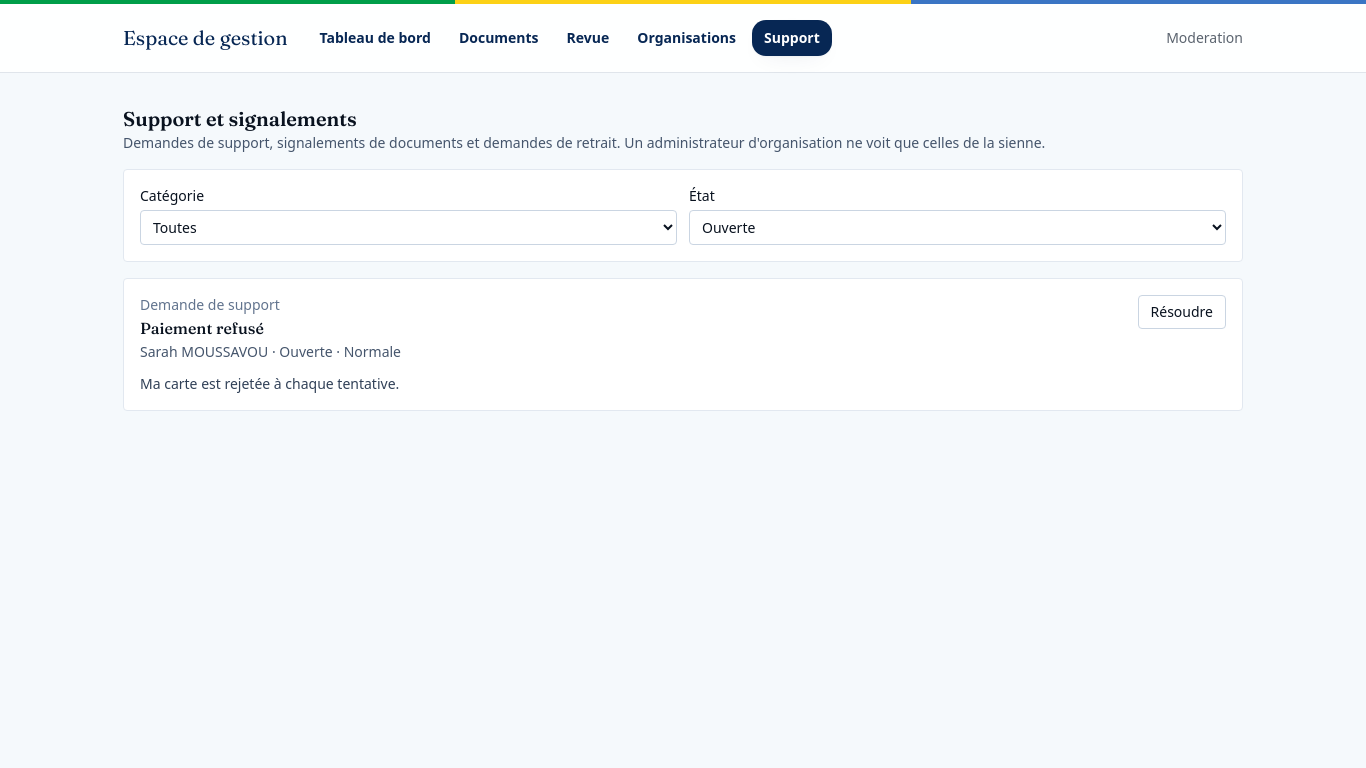
Test: file de support › refuse une résolution sans résumé avant d'appeler le serveur
Click the button "Résoudre". click: (1182, 312)
box: [1138,295,1226,329]
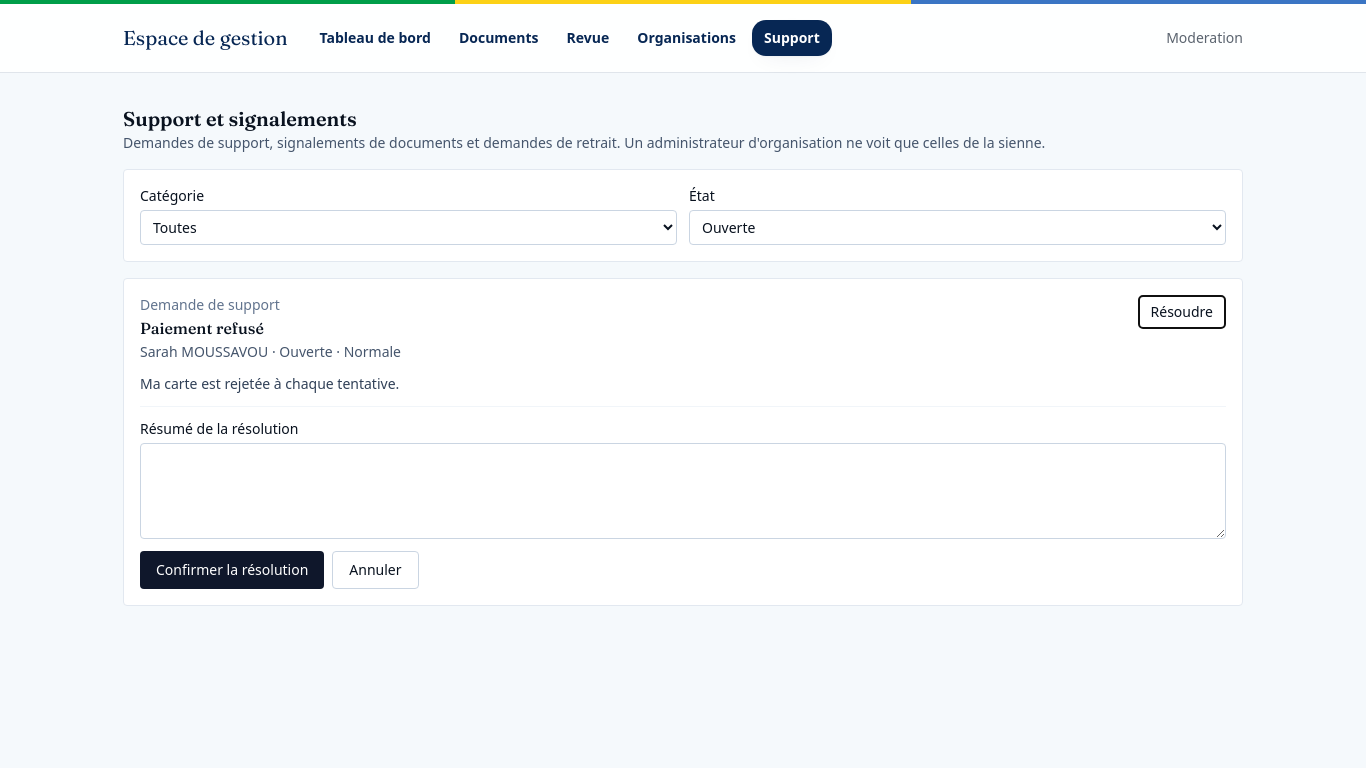
Click the button "Confirmer la résolution". click: (232, 570)
box: [140,551,324,589]
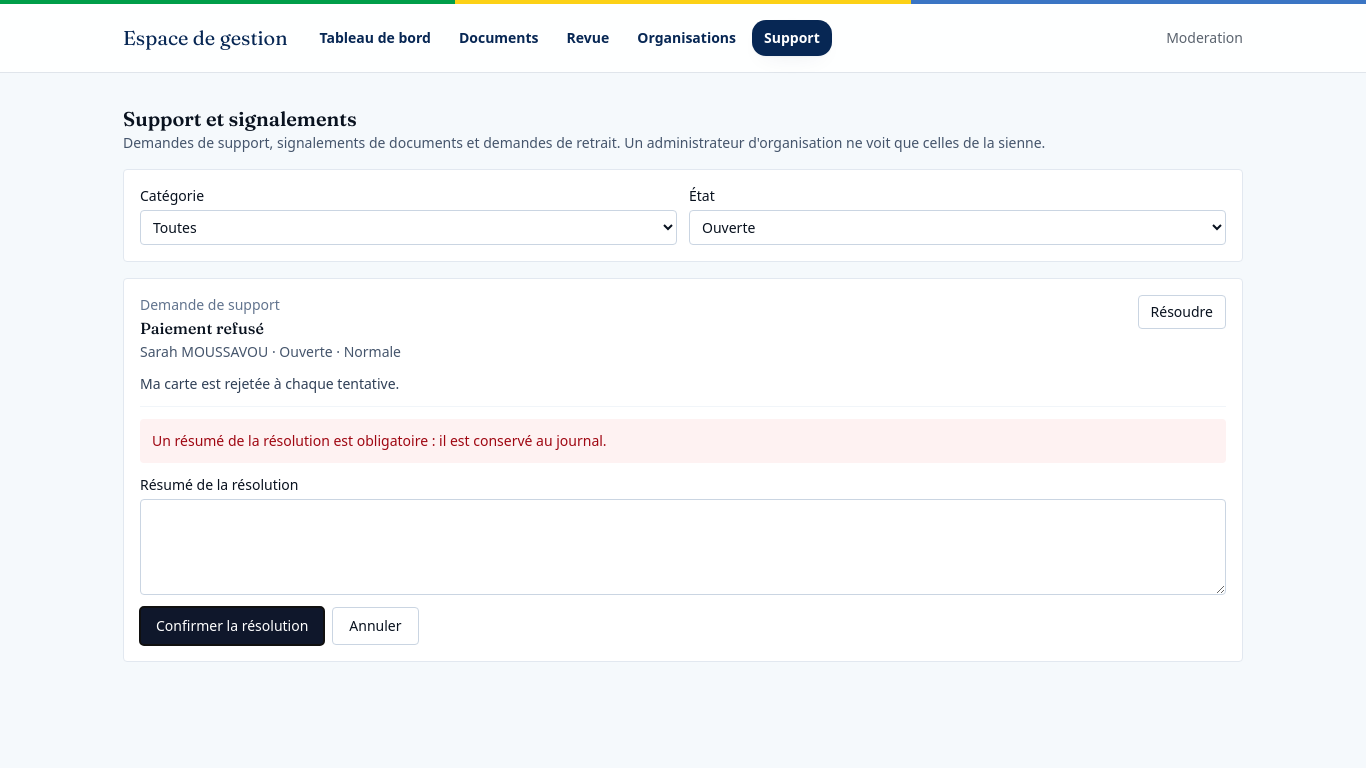
Expected: the message shows "résumé", [152,431,607,450]
